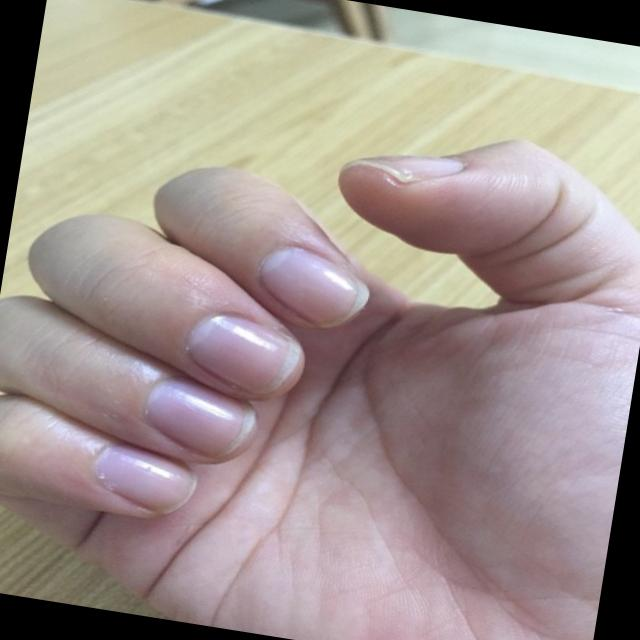Nail: (186, 315, 303, 394), (258, 249, 370, 327), (148, 378, 256, 458), (95, 445, 196, 514), (347, 156, 464, 184)
